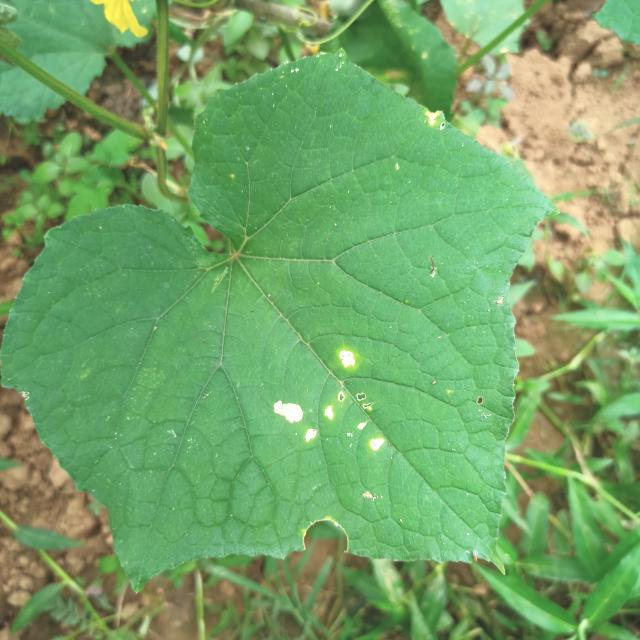disease_cucumber: (272, 343, 384, 458)
